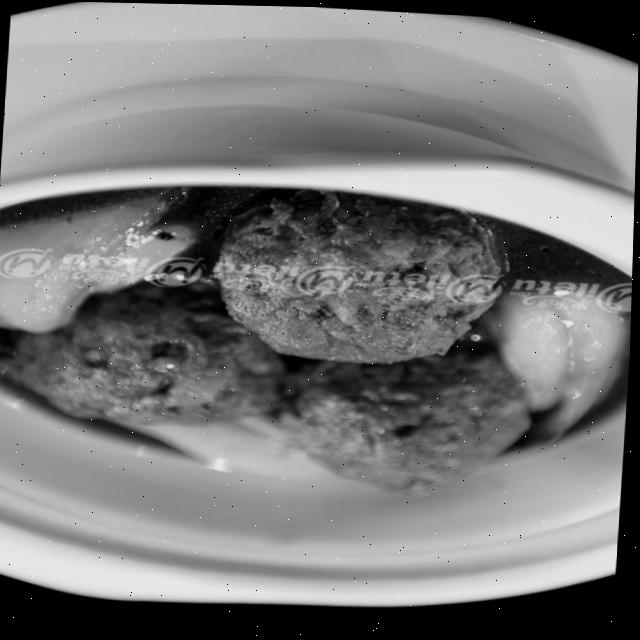猪肉菜式: (0, 73, 636, 623)
